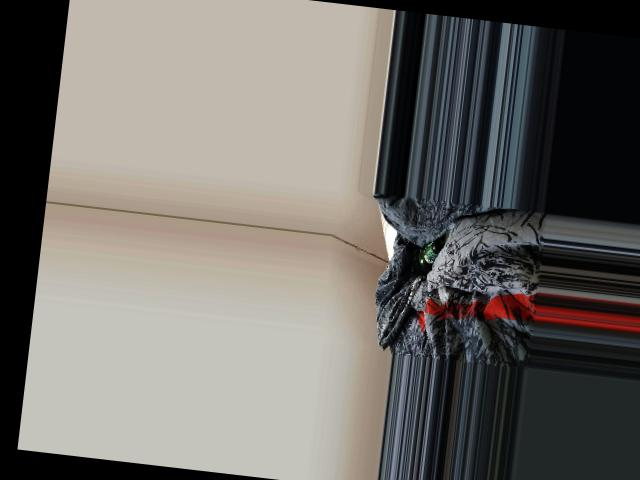beer: (413, 234, 445, 278)
